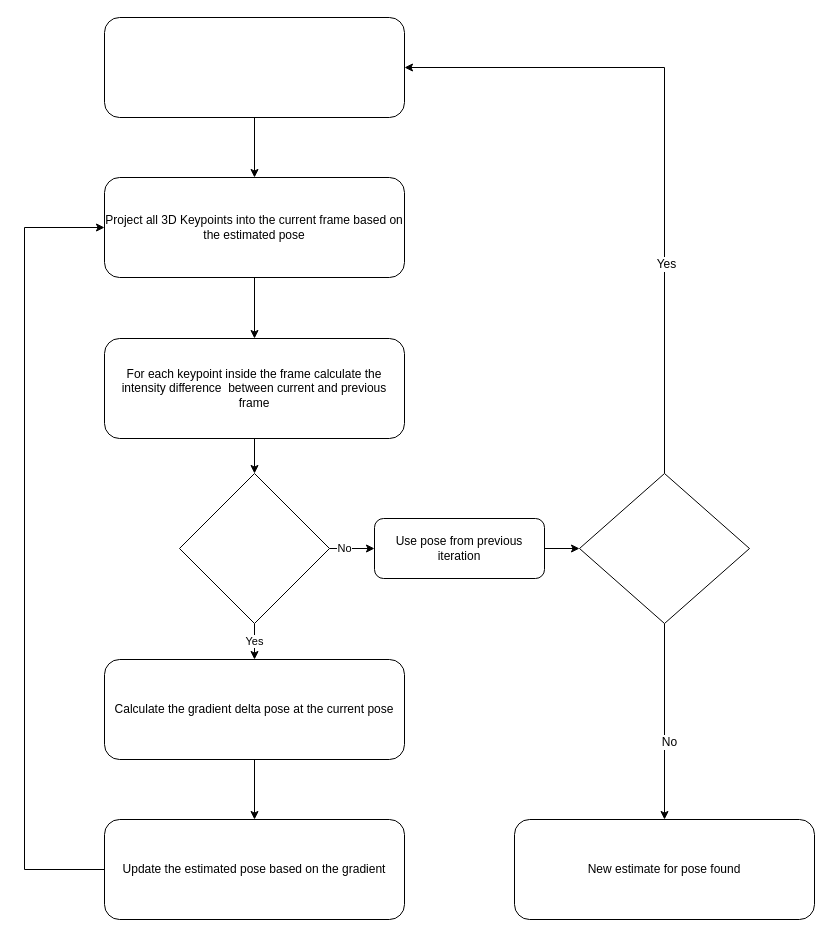
This 832x937 diagram has some shape labels left out. Here are the shapes that lost their labels. From the top down, the centre of each, then its label:
point (254, 67): For each pyramid level (from max to min e.g. from 5 to 2)
point (254, 548): Did the difference improve since the last iteration?
point (664, 548): More pyramid levels available?
